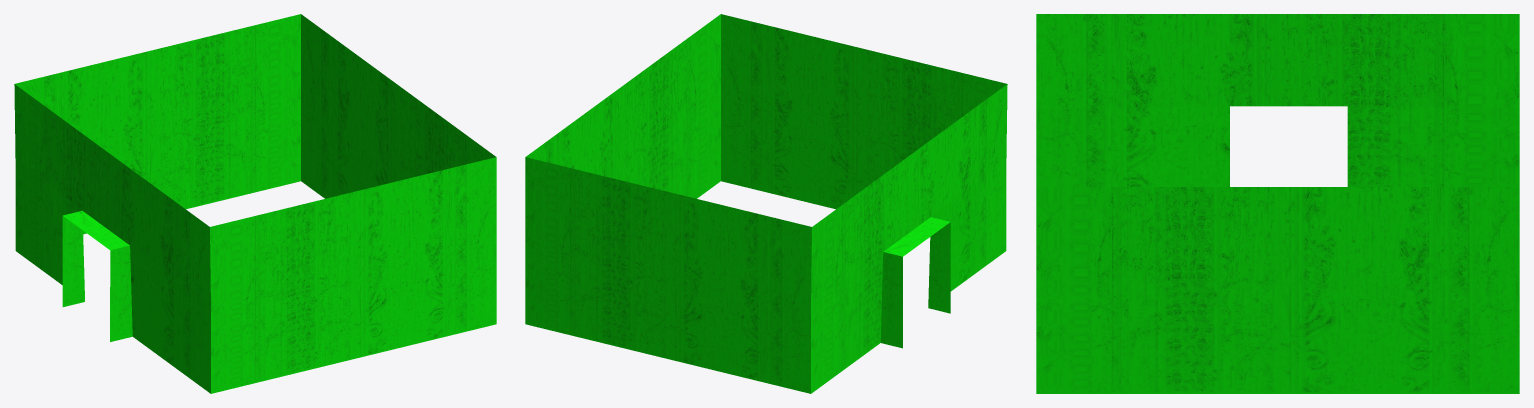
The model's file is 식량창고벽.fbx.
3 renders of one model, left to right at view 1: azimuth 30°, elevation 25°; view 2: azimuth 150°, elevation 25°; view 3: azimuth 270°, elevation 25°, orthographic. The views are drawn at different scales.
Visible parts, largest first — view 1: 식량 창고; view 2: 식량 창고; view 3: 식량 창고.
Boxes of the visible parts, x1,y1,x2,y2 form: 식량 창고: [14, 14, 496, 393]; 식량 창고: [525, 14, 1007, 393]; 식량 창고: [1036, 14, 1519, 393].
Size of the model in its own units: 289 by 150 by 317.
